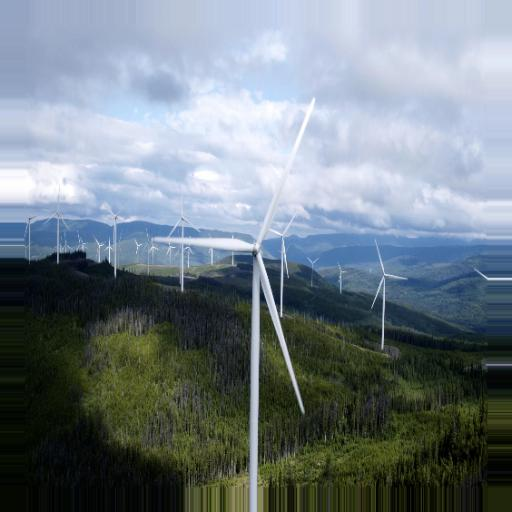wind turbine: (149, 97, 315, 478), (368, 237, 410, 351), (264, 211, 299, 319), (167, 191, 201, 293), (43, 183, 70, 259)
